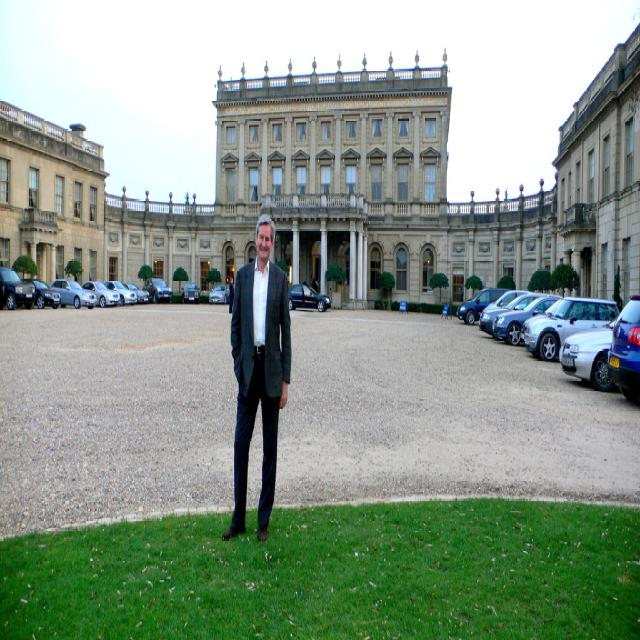car: (180, 278, 198, 300), (210, 282, 228, 299)
